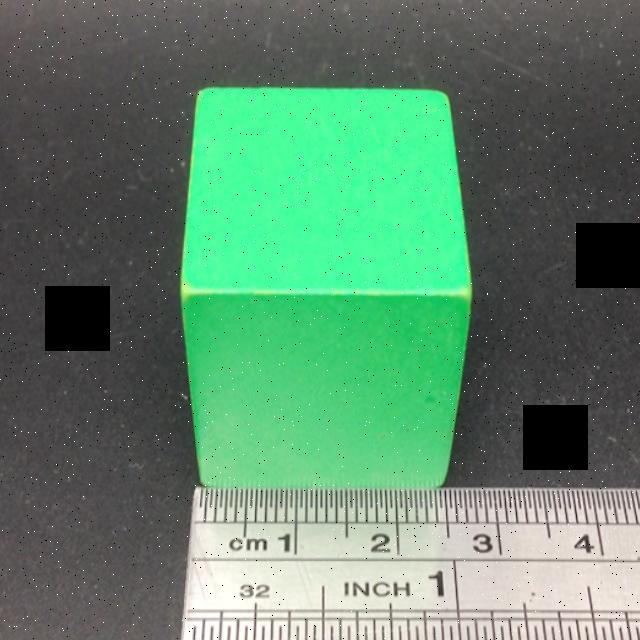green cube: (178, 75, 477, 488)
